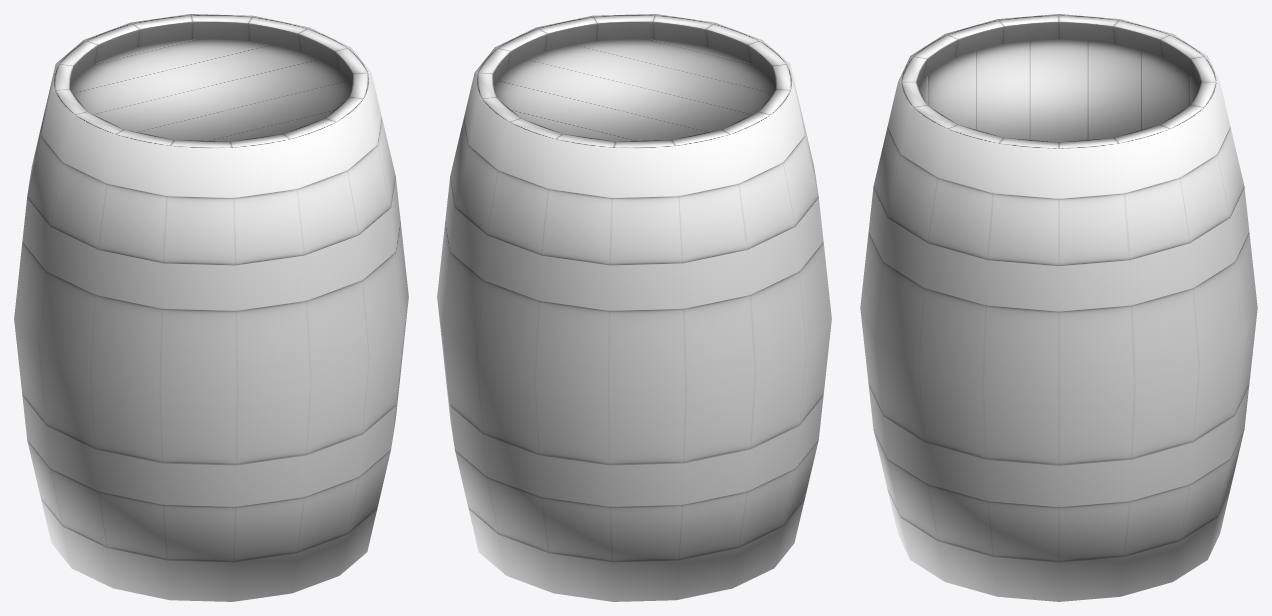
File: Barile2.fbx
The picture shows the model from 3 angles, left to right: view 1: azimuth 30°, elevation 25°; view 2: azimuth 150°, elevation 25°; view 3: azimuth 270°, elevation 25°; orthographic projection.
Visible parts, largest first — view 1: barrel_25_lp; view 2: barrel_25_lp; view 3: barrel_25_lp.
Part boxes in pixels (left/top/right/bottom): barrel_25_lp: left=14, top=14, right=408, bottom=601; barrel_25_lp: left=437, top=14, right=831, bottom=601; barrel_25_lp: left=860, top=14, right=1257, bottom=601.
Size of the model in its own units: 85.48 by 107 by 85.48.
